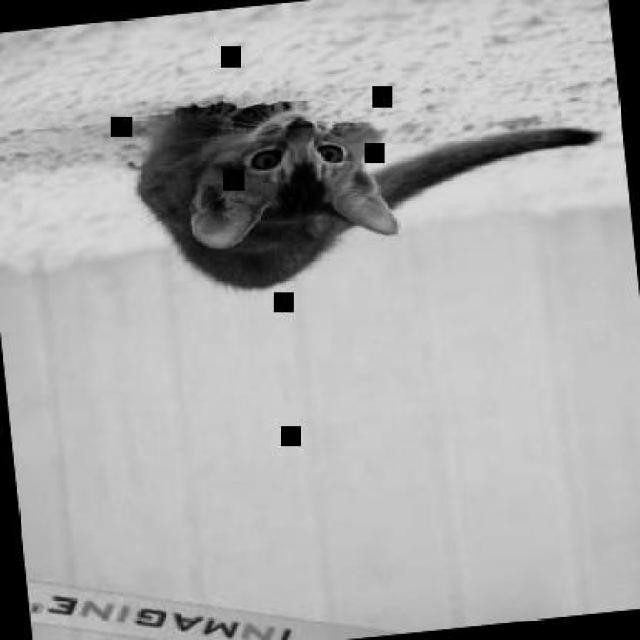Cat: (129, 64, 609, 298)
